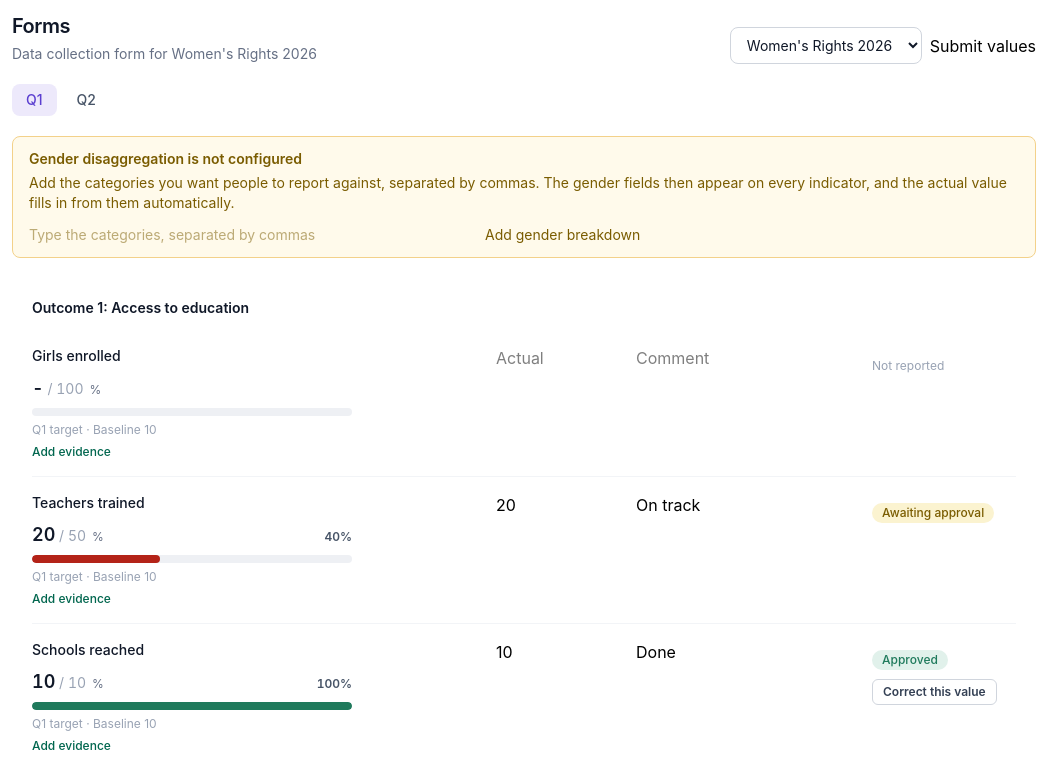
Test case: MEForms: submit button › counts a value of 0 as an entry
This screenshot has width=1048, height=780.
Type "0" into the number field with placeholder "Actual".
click(560, 358); type("0")  # box [496,346,624,370]
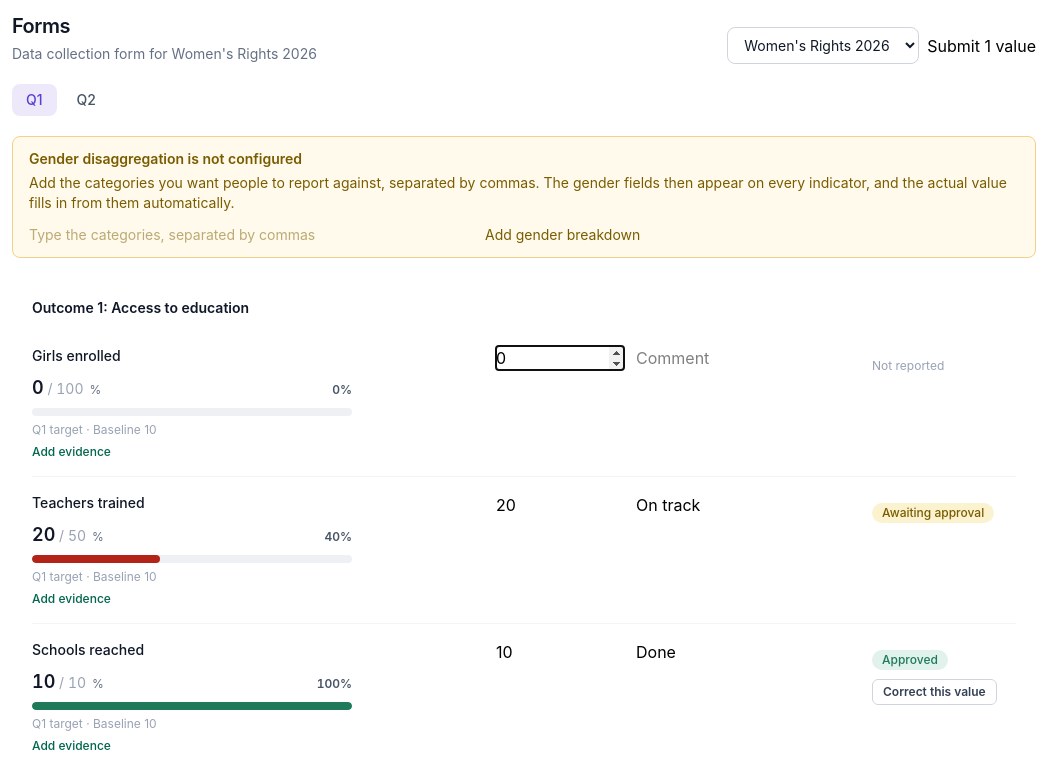
Expected: the button "Submit 1 value" is enabled, [927,34,1036,58]
Expected: the button "Submit 1 value" is shown, [927,34,1036,58]
